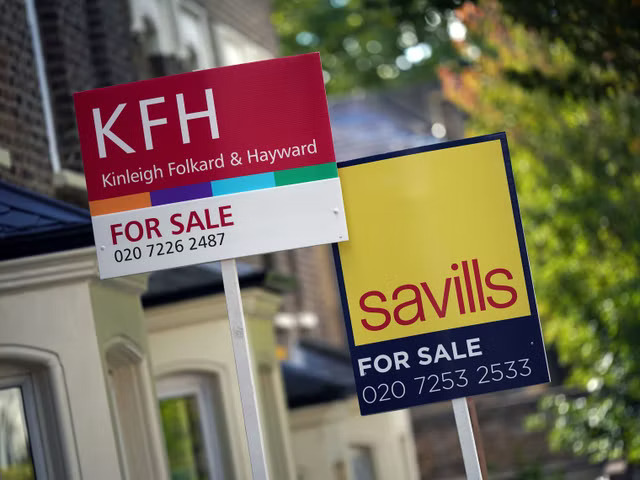property sign: (318, 122, 575, 416), (58, 42, 351, 287)
